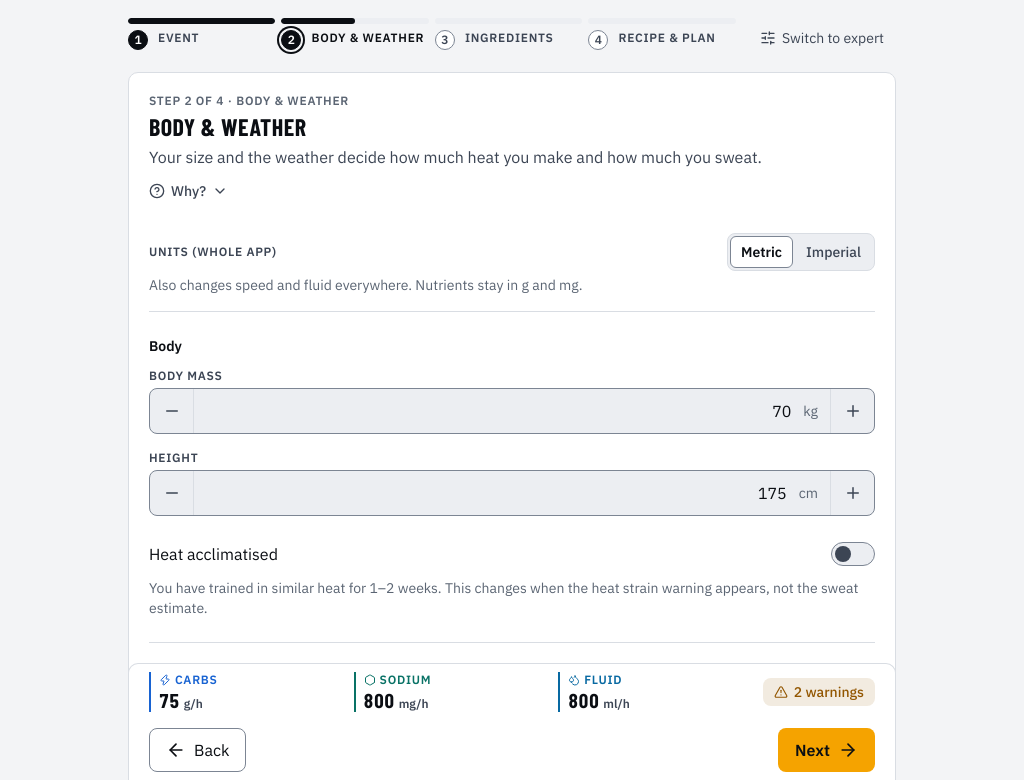
Scenario: Guided step 2: sweat › shows a preset chosen in expert mode as No, and offers the estimate instead
Click the button with test id "guided-next". click: (827, 750)
box: left=778, top=728, right=875, bottom=772
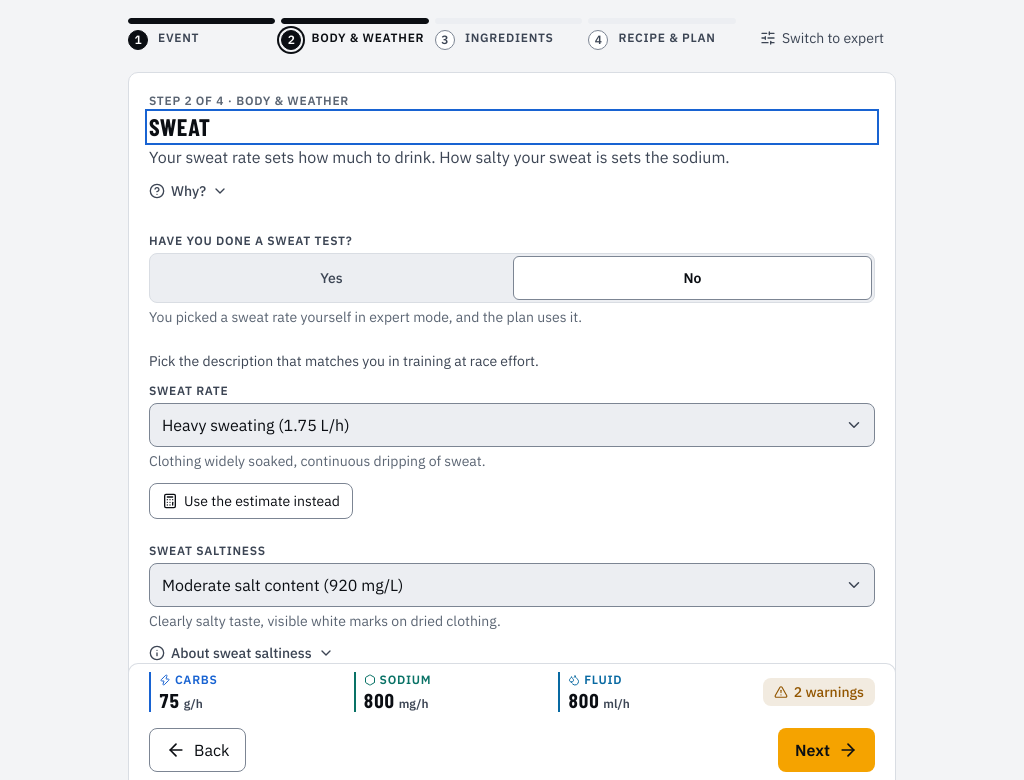
Result: the element with test id "sweat-preset-panel" is shown at left=149, top=351, right=875, bottom=471
Click the button "Use the estimate instead". click: (251, 501)
box: left=149, top=483, right=353, bottom=519
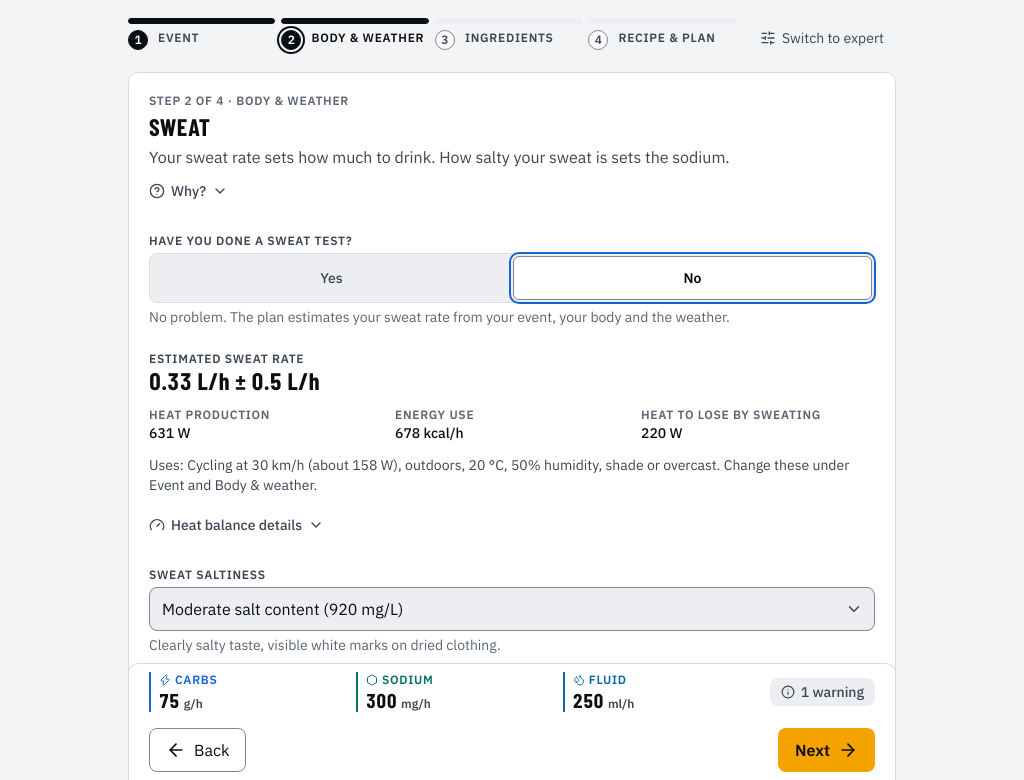
Result: the element with test id "sweat-estimate-panel" is shown at left=149, top=351, right=875, bottom=543
